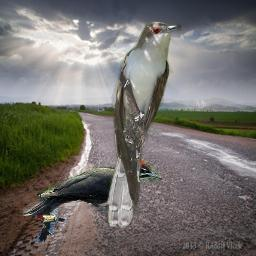Cuckoo: (105, 19, 183, 228)
Woodpecker: (23, 157, 162, 216), (34, 192, 66, 243)
